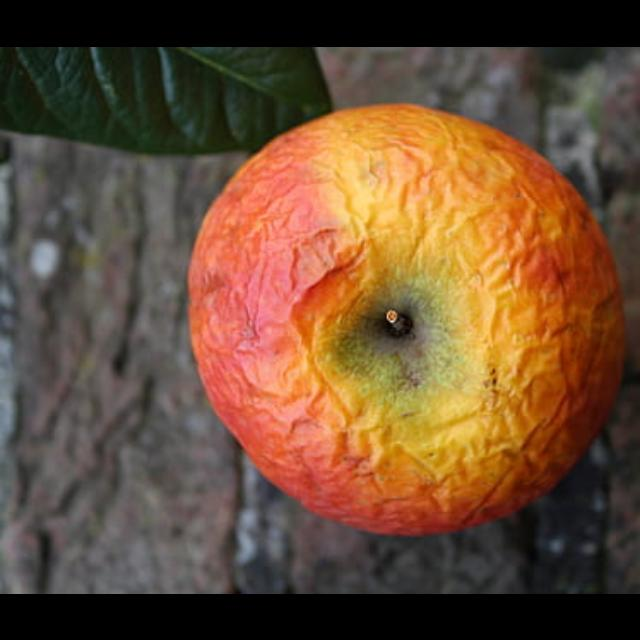Apel Tidak Segar: (190, 102, 640, 552)
